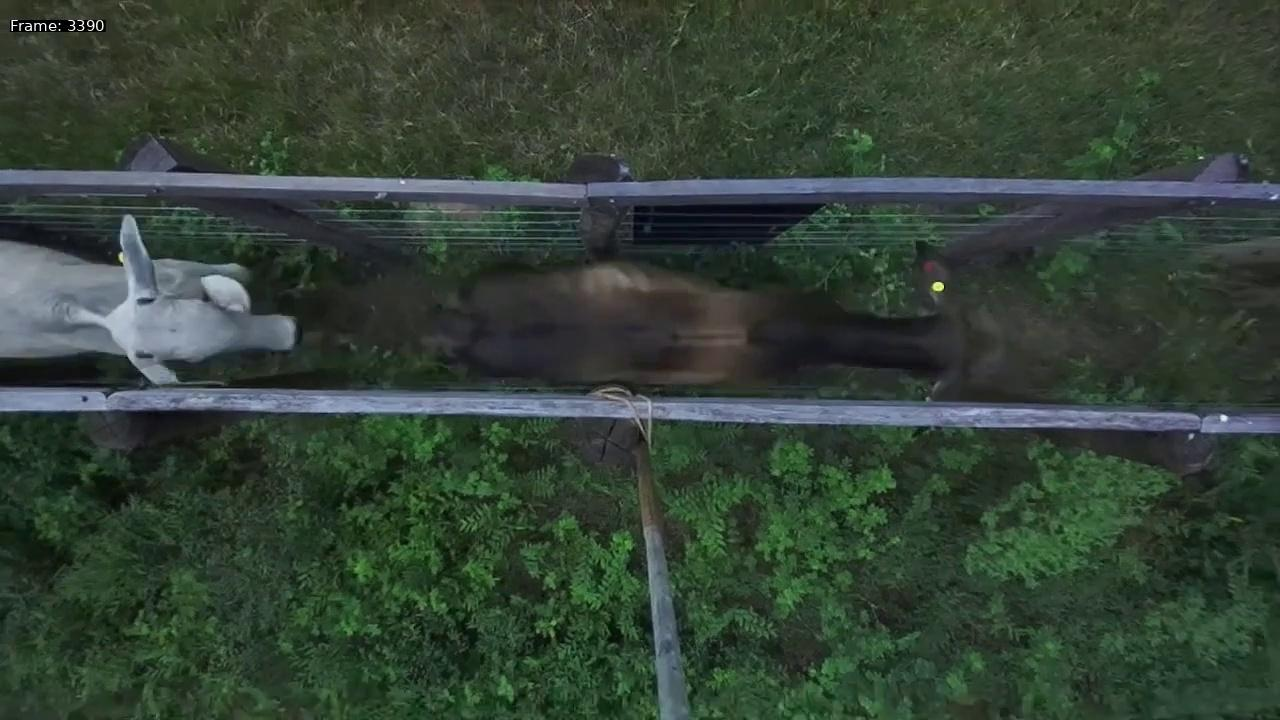cattle: (397, 234, 1011, 409)
